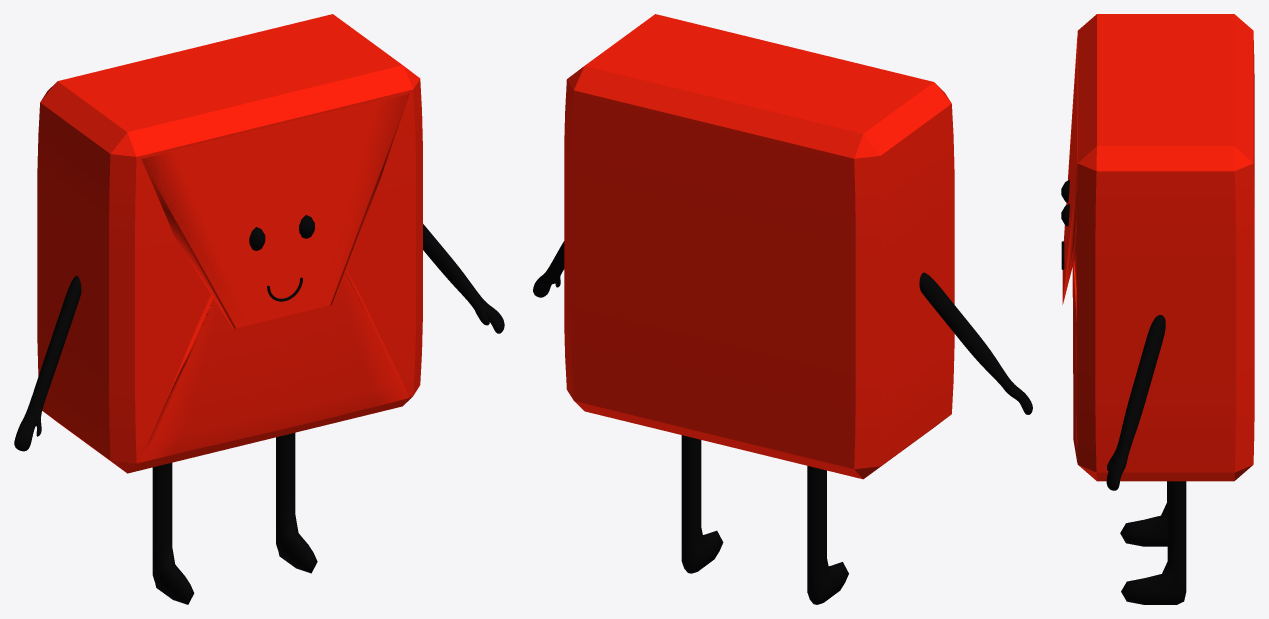
The model's file is Sugus - Anaranjado.FBX.
3 renders of one model, left to right at view 1: azimuth 30°, elevation 25°; view 2: azimuth 150°, elevation 25°; view 3: azimuth 270°, elevation 25°, orthographic. The views are drawn at different scales.
Visible parts, largest first — view 1: Box001 (×2), Line001, Line002, Box002, Box003, Box004; view 2: Box001 (×2), Box002, Box003, Box004; view 3: Box001 (×2), Box002, Box004, Line001, Line002.
Part boxes in pixels (x1=…): Box001 (×2): x1=37, y1=14, x2=422, y2=604; Line001: x1=141, y1=93, x2=409, y2=328; Line002: x1=140, y1=269, x2=409, y2=461; Box002: x1=276, y1=433, x2=317, y2=573; Box003: x1=14, y1=275, x2=81, y2=451; Box004: x1=423, y1=224, x2=504, y2=333; Box001 (×2): x1=564, y1=14, x2=954, y2=604; Box002: x1=681, y1=435, x2=723, y2=573; Box003: x1=919, y1=272, x2=1032, y2=414; Box004: x1=533, y1=241, x2=564, y2=297; Box001 (×2): x1=1076, y1=14, x2=1254, y2=546; Box002: x1=1121, y1=481, x2=1186, y2=604; Box004: x1=1106, y1=315, x2=1165, y2=490; Line001: x1=1062, y1=36, x2=1077, y2=304; Line002: x1=1072, y1=252, x2=1087, y2=470.
Size of the model in its own units: 29.69 by 29.22 by 10.32.
